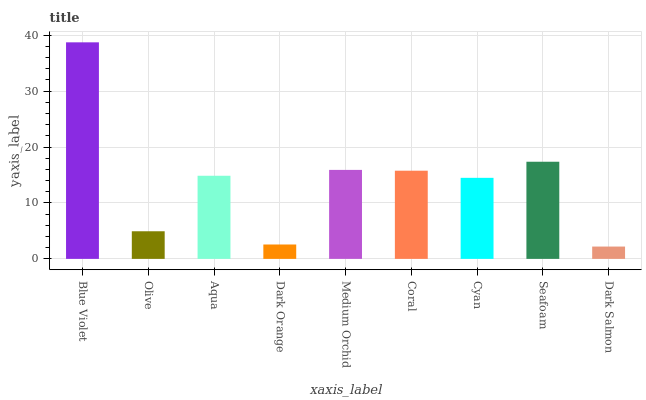canvas: (62, 39, 633, 263)
title: (49, 8, 82, 27)
x-axis: (45, 265, 646, 279)
x-labels: (74, 279, 636, 368)
x-title: (308, 383, 386, 397)
y-axis: (41, 25, 57, 271)
y-labels: (21, 27, 43, 266)
y-title: (5, 111, 22, 191)
